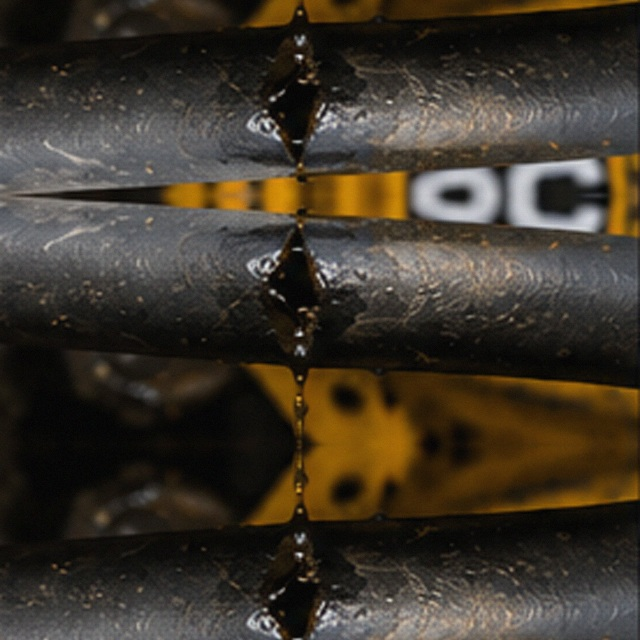hydraulic_oil_leak: (210, 183, 460, 445)
